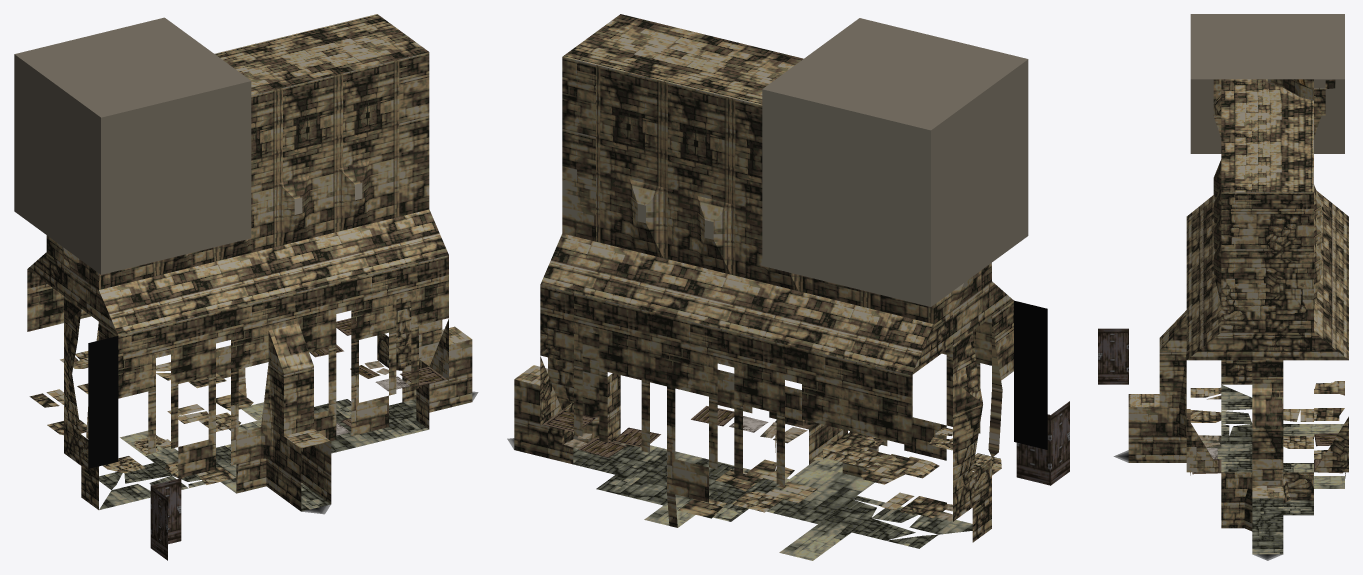
The model's file is MAP108.obj.
3 renders of one model, left to right at view 1: azimuth 30°, elevation 25°; view 2: azimuth 150°, elevation 25°; view 3: azimuth 270°, elevation 25°, orthographic. The views are drawn at different scales.
Visible parts, largest first — view 1: mesh_21, mesh_13, mesh_16, mesh_17, mesh_6, mesh_12, mesh_22, mesh_15, mesh_7, mesh_14, mesh_11, mesh_4 (+2 smaller); view 2: mesh_21, mesh_16, mesh_11, mesh_17, mesh_6, mesh_14, mesh_12, mesh_7, mesh_13, mesh_22, mesh_15, mesh_9 (+3 smaller); view 3: mesh_16, mesh_21, mesh_12, mesh_6, mesh_13, mesh_7, mesh_22, mesh_4, mesh_14, mesh_9, mesh_17.
Part boxes in pixels (x1,y1,x2,y2): mesh_21: (14, 17, 362, 276); mesh_13: (118, 255, 448, 511); mesh_16: (27, 14, 448, 335); mesh_17: (99, 59, 399, 289); mesh_6: (99, 399, 428, 511); mesh_12: (377, 296, 472, 428); mesh_22: (159, 161, 369, 275); mesh_15: (88, 336, 118, 468); mesh_7: (29, 351, 253, 484); mesh_14: (64, 296, 117, 509); mesh_11: (27, 269, 246, 396); mesh_4: (150, 485, 167, 560); mesh_21: (637, 18, 1028, 309); mesh_16: (540, 14, 1013, 375); mesh_11: (540, 285, 911, 527); mesh_17: (596, 65, 933, 323); mesh_6: (573, 442, 972, 560); mesh_14: (953, 301, 1013, 542); mesh_12: (514, 330, 620, 464); mesh_7: (678, 427, 1001, 518); mesh_13: (717, 317, 991, 477); mesh_22: (629, 179, 798, 290); mesh_15: (1014, 300, 1047, 449); mesh_9: (543, 406, 734, 457); mesh_16: (1186, 79, 1348, 360); mesh_21: (1190, 14, 1344, 153); mesh_12: (1186, 360, 1348, 531); mesh_6: (1202, 384, 1344, 554); mesh_13: (1128, 310, 1190, 475); mesh_7: (1190, 381, 1344, 459); mesh_22: (1213, 159, 1321, 305); mesh_4: (1098, 328, 1128, 384); mesh_14: (1221, 360, 1252, 384); mesh_9: (1192, 433, 1343, 474); mesh_17: (1314, 87, 1325, 136).
Bounding box in the file's own units: 186 × 166 × 104.
Materials: 10 (10 with a texture image).
